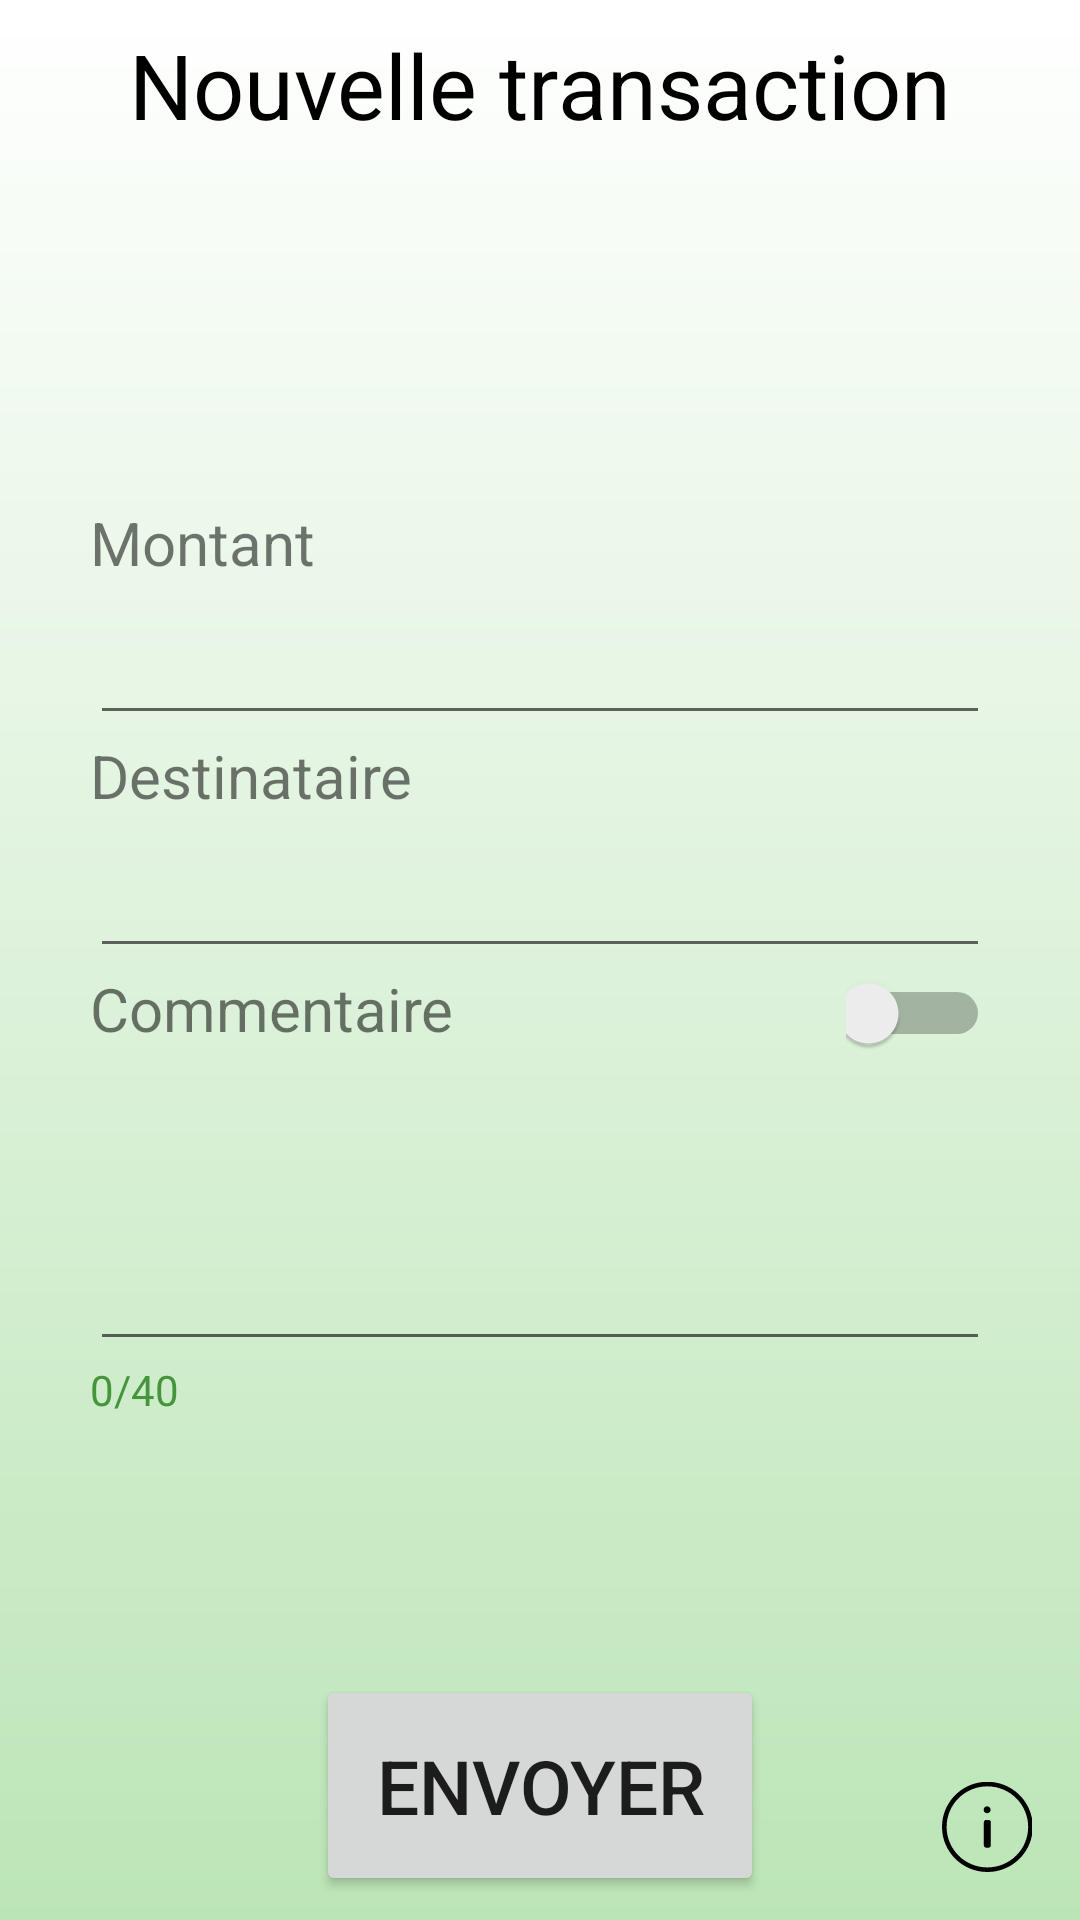

Screen size 1080 × 1920. Icon name, then its box in pixels as [x1,y1,x2,y2]:
infobulle: [942,1782,1032,1872]
